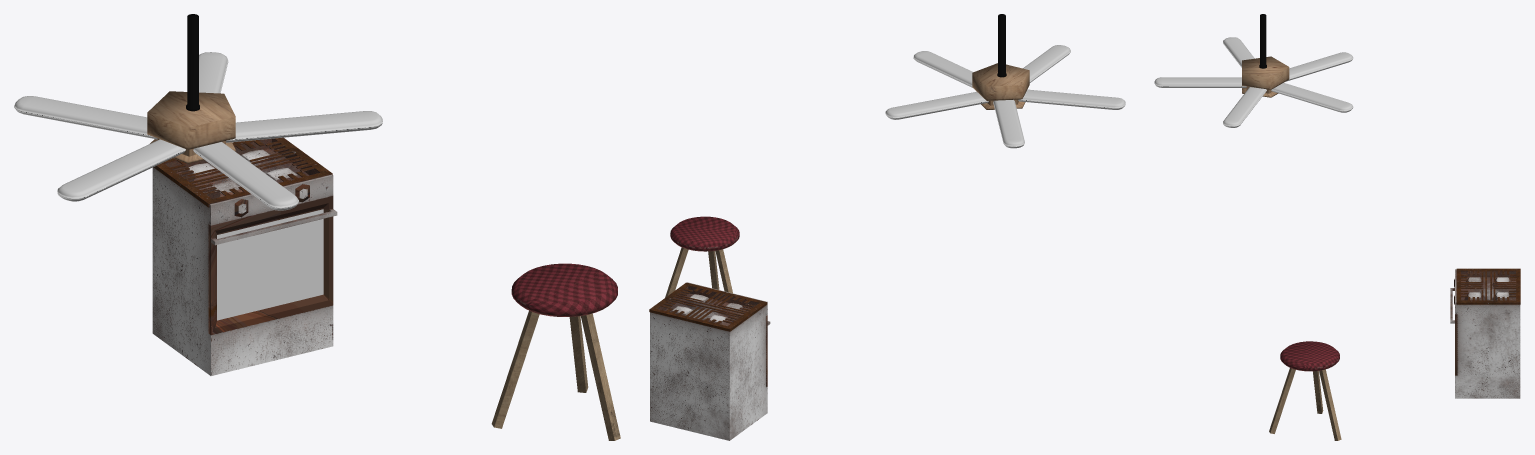
Rendered from spis fläkt pall.fbx.
The picture shows the model from 3 angles, left to right: view 1: azimuth 30°, elevation 25°; view 2: azimuth 150°, elevation 25°; view 3: azimuth 270°, elevation 25°; orthographic projection. The views are drawn at different scales.
Visible parts, largest first — view 1: spis, spis.001, Cylinder.003, Untitled.001, Cylinder, Cylinder.002; view 2: spis, Cylinder.003, Untitled.001, Cylinder, Cylinder.002; view 3: spis, Cylinder.003, Untitled.001, Cylinder, Cylinder.002.
Boxes of the visible parts, x1,y1,x2,y2 form: spis: (152,137,333,375); spis.001: (208,196,337,334); Cylinder.003: (14,52,382,210); Untitled.001: (491,263,620,440); Cylinder: (147,91,235,163); Cylinder.002: (186,14,199,111); spis: (649,282,767,440); Cylinder.003: (885,45,1125,148); Untitled.001: (665,216,739,297); Cylinder: (972,63,1029,109); Cylinder.002: (997,14,1006,77); spis: (1454,268,1520,398); Cylinder.003: (1154,37,1353,127); Untitled.001: (1269,341,1341,440); Cylinder: (1242,56,1289,97); Cylinder.002: (1259,14,1266,68).
Bounding box in the file's own units: 6453 × 5299 × 5853.
